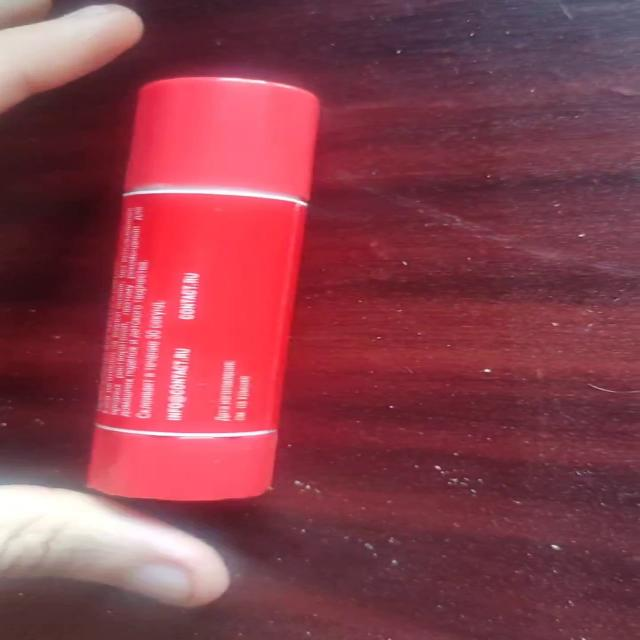glue: (84, 74, 320, 502)
